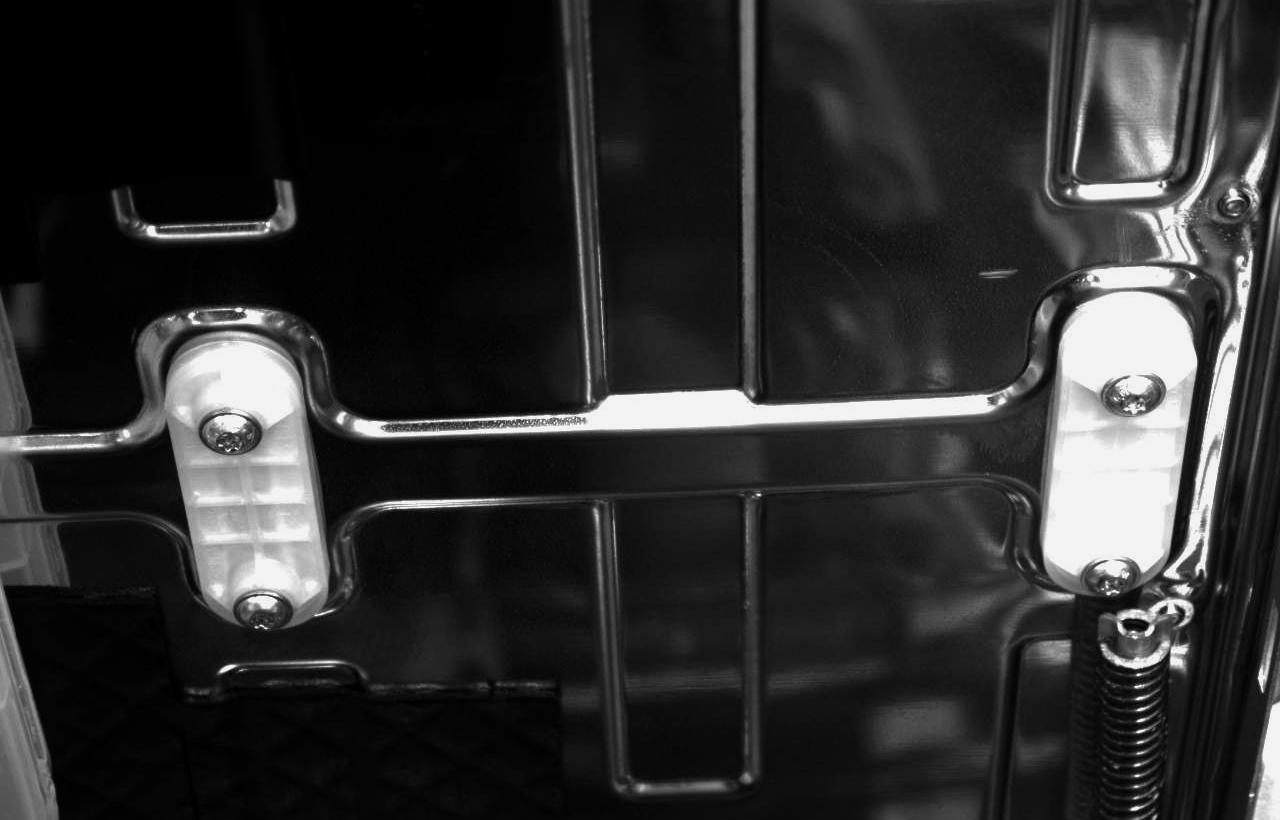vida-ok: (194, 398, 266, 465), (1103, 365, 1170, 432), (230, 579, 296, 638), (1080, 545, 1146, 604)
